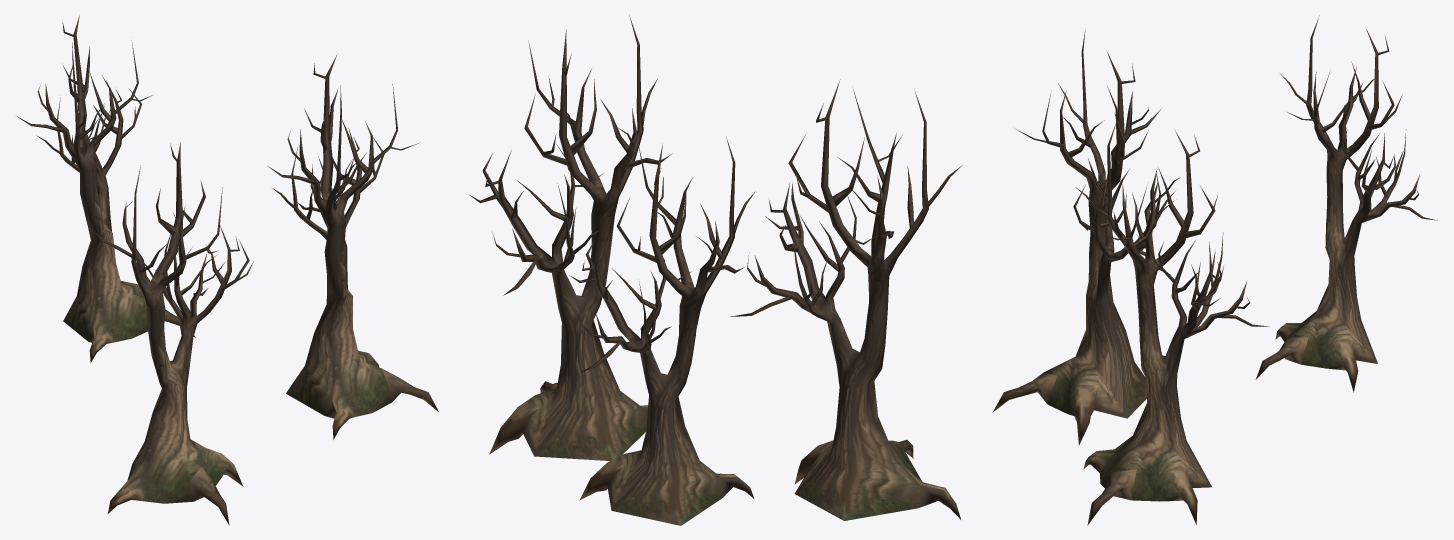
File: plants_tall_tree_trunks09.fbx
3 renders of one model, left to right at view 1: azimuth 30°, elevation 25°; view 2: azimuth 150°, elevation 25°; view 3: azimuth 270°, elevation 25°, orthographic. The views are drawn at different scales.
Parts seen in each view (by area): view 1: Material_#238683193/fancy_tree; view 2: Material_#238683193/fancy_tree; view 3: Material_#238683193/fancy_tree.
Part boxes in pixels (<box>): Material_#238683193/fancy_tree: <box>16,15,438,525</box>; Material_#238683193/fancy_tree: <box>470,15,962,525</box>; Material_#238683193/fancy_tree: <box>992,15,1437,525</box>.
Bounding box in the file's own units: 9.41 × 10.23 × 10.26.
